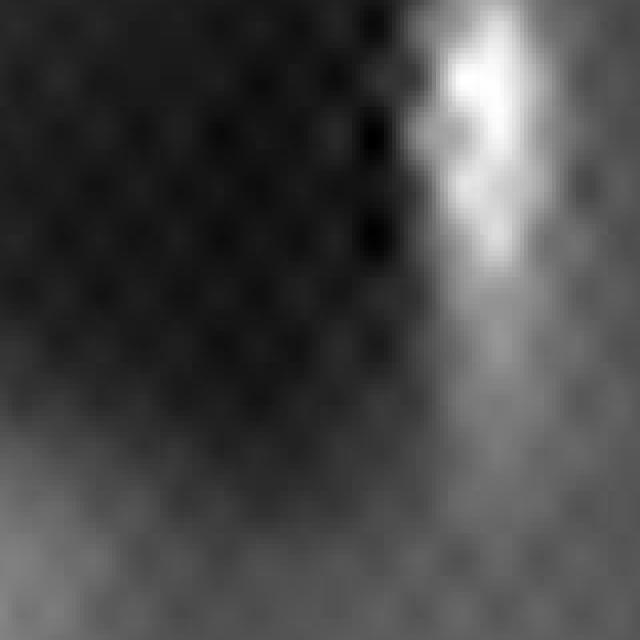person: (385, 1, 565, 353)
